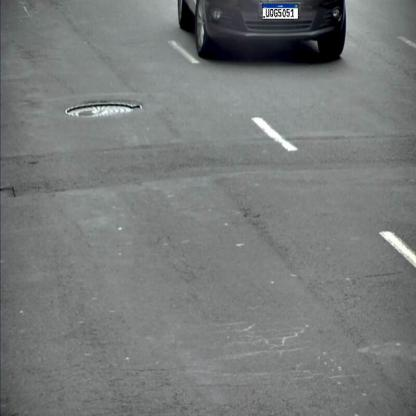PlacaM: (262, 3, 299, 20)
